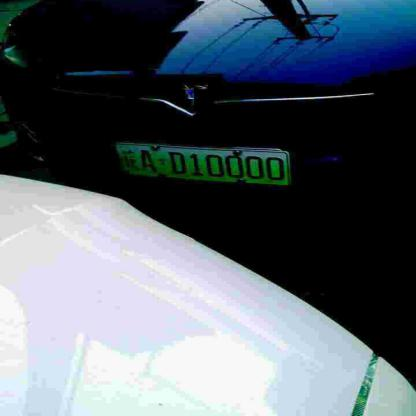lp: (116, 144, 291, 186)
